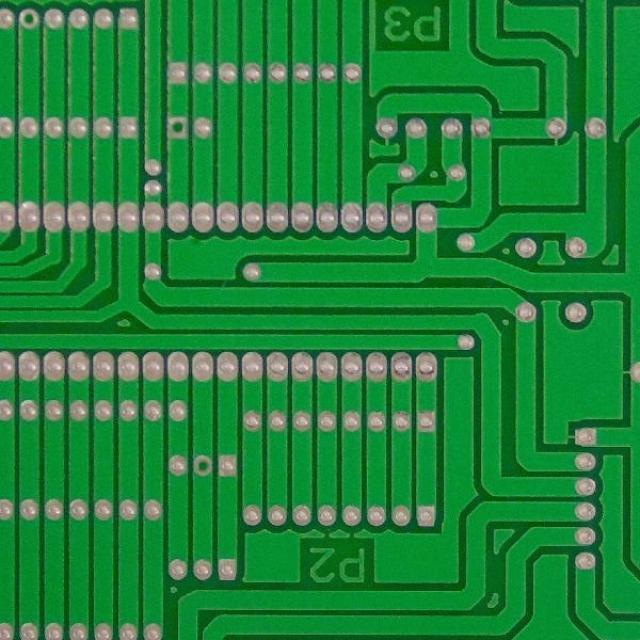missing_hole: (193, 453, 216, 478), (19, 5, 41, 31), (169, 117, 190, 139)
